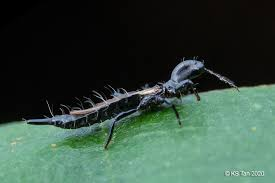Phlaeothripidae: (25, 59, 238, 148)
